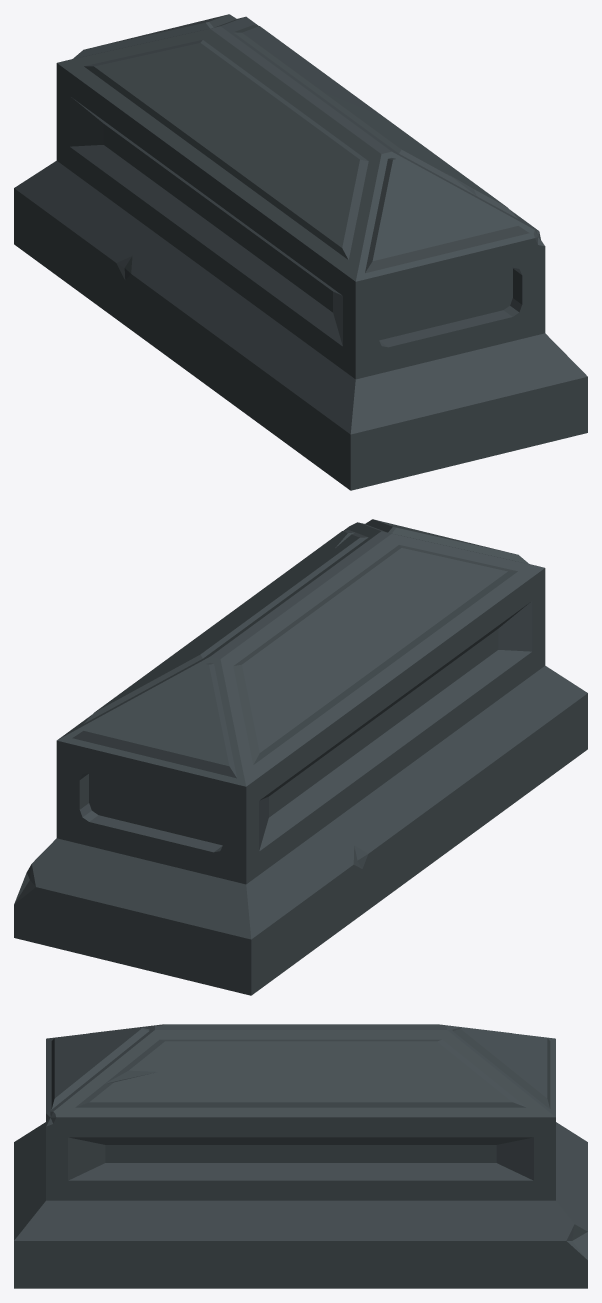
File: coffin_stone_1.fbx
The picture shows the model from 3 angles, top to bottom: view 1: azimuth 30°, elevation 25°; view 2: azimuth 150°, elevation 25°; view 3: azimuth 270°, elevation 25°; orthographic projection. The views are drawn at different scales.
Visible parts, largest first — view 1: coffin_stone1; view 2: coffin_stone1; view 3: coffin_stone1.
Boxes of the visible parts, x1,y1,x2,y2 form: coffin_stone1: (14,14,587,490); coffin_stone1: (14,519,587,995); coffin_stone1: (14,1024,587,1288).
Bounding box in the file's own units: 0.9616 × 0.9622 × 2.36.
